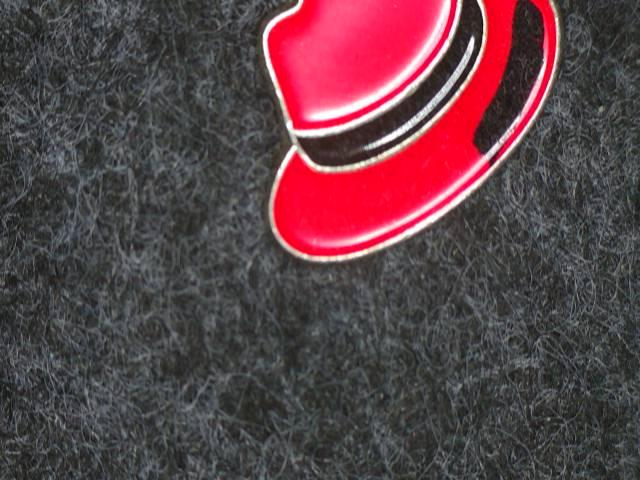Red-Hat: (213, 0, 615, 297)
Scratch: (458, 0, 578, 175)
